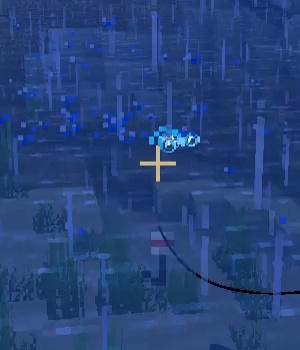down: (139, 227, 178, 290)
